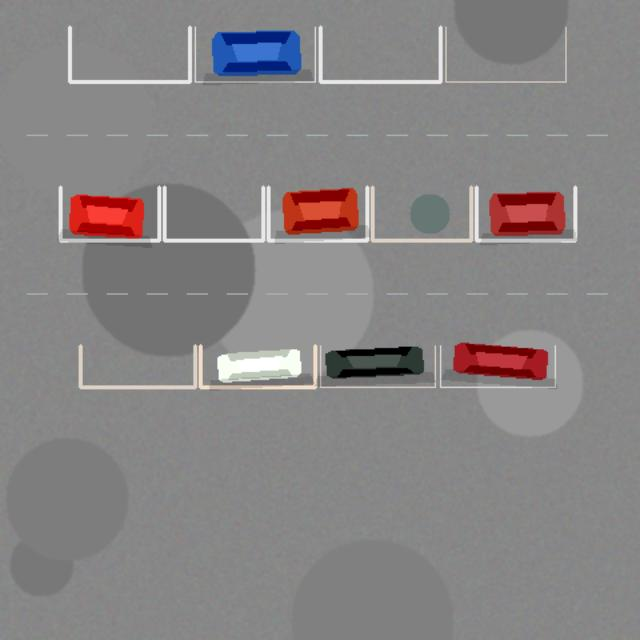space-empty: (69, 27, 189, 81), (320, 27, 440, 81), (445, 27, 565, 81), (164, 187, 263, 240), (372, 187, 471, 240), (80, 345, 195, 387)
space-occupied: (195, 27, 315, 81), (60, 187, 159, 240), (268, 187, 367, 240), (476, 187, 575, 240), (200, 345, 315, 387), (320, 345, 435, 387), (440, 345, 555, 387)
